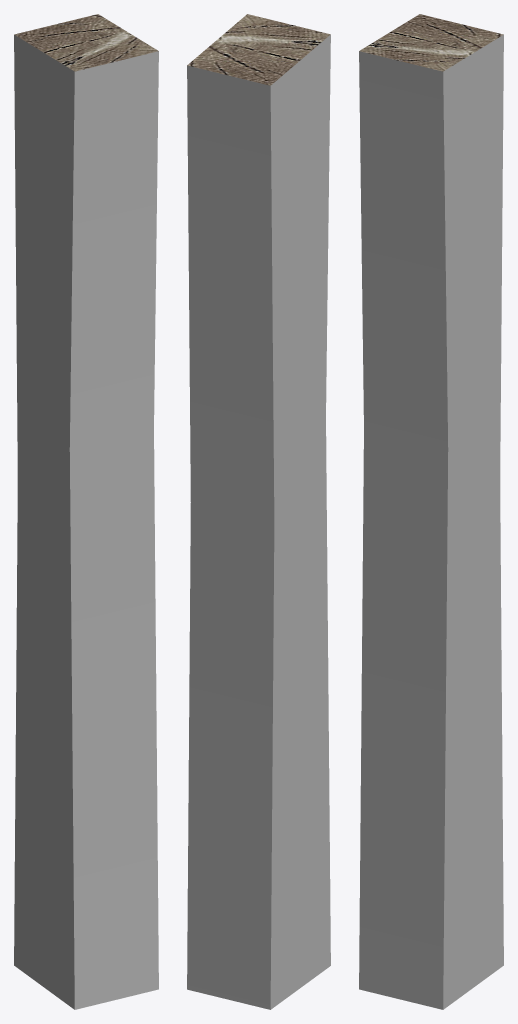
Rendered from mw_wood_fence_post_01.FBX.
The picture shows the model from 3 angles, left to right: view 1: azimuth 30°, elevation 25°; view 2: azimuth 150°, elevation 25°; view 3: azimuth 330°, elevation 25°; orthographic projection.
Parts seen in each view (by area): view 1: mw_wood_fence_post_01; view 2: mw_wood_fence_post_01; view 3: mw_wood_fence_post_01.
Boxes of the visible parts, x1,y1,x2,y2 form: mw_wood_fence_post_01: [14, 14, 158, 1009]; mw_wood_fence_post_01: [187, 14, 330, 1009]; mw_wood_fence_post_01: [359, 14, 503, 1009].
Size of the model in its own units: 18.22 by 194 by 22.79.
